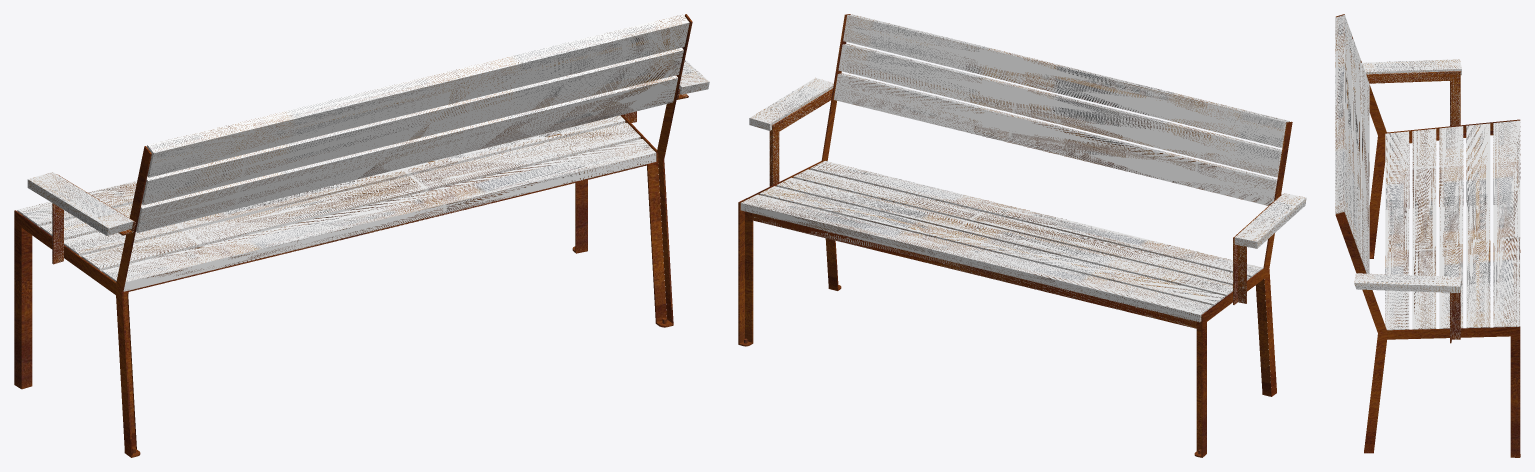
3 views of the same model, side by side, from view 1: azimuth 30°, elevation 25°; view 2: azimuth 150°, elevation 25°; view 3: azimuth 270°, elevation 25° (orthographic). The views are drawn at different scales.
Visible parts, largest first — view 1: mesh3_mesh3-geometry, mesh5_mesh5-geometry, mesh4_mesh4-geometry, mesh10_mesh10-geometry, mesh8_mesh8-geometry, mesh26_mesh26-geometry, mesh9_mesh9-geometry, mesh13_mesh13-geometry, mesh18_mesh18-geometry, mesh6_mesh6-geometry, mesh29_mesh29-geometry, mesh1_mesh1-geometry (+3 smaller); view 2: mesh3_mesh3-geometry, mesh5_mesh5-geometry, mesh4_mesh4-geometry, mesh6_mesh6-geometry, mesh7_mesh7-geometry, mesh9_mesh9-geometry, mesh8_mesh8-geometry, mesh10_mesh10-geometry, mesh26_mesh26-geometry, mesh2_mesh2-geometry, mesh13_mesh13-geometry, mesh18_mesh18-geometry (+5 smaller); view 3: mesh6_mesh6-geometry, mesh7_mesh7-geometry, mesh8_mesh8-geometry, mesh10_mesh10-geometry, mesh9_mesh9-geometry, mesh13_mesh13-geometry, mesh3_mesh3-geometry, mesh22_mesh22-geometry, mesh5_mesh5-geometry, mesh4_mesh4-geometry, mesh26_mesh26-geometry, mesh19_mesh19-geometry (+4 smaller).
Part boxes in pixels (x1,y1,x2,y2): mesh3_mesh3-geometry: (147, 14, 689, 177); mesh5_mesh5-geometry: (141, 47, 683, 205); mesh4_mesh4-geometry: (136, 75, 677, 232); mesh10_mesh10-geometry: (102, 139, 656, 291); mesh8_mesh8-geometry: (81, 123, 640, 271); mesh26_mesh26-geometry: (14, 210, 140, 457); mesh9_mesh9-geometry: (64, 115, 625, 256); mesh13_mesh13-geometry: (572, 114, 673, 327); mesh18_mesh18-geometry: (27, 172, 133, 235); mesh6_mesh6-geometry: (17, 180, 137, 227); mesh29_mesh29-geometry: (116, 146, 151, 291); mesh1_mesh1-geometry: (127, 164, 646, 291); mesh3_mesh3-geometry: (843, 14, 1289, 147); mesh5_mesh5-geometry: (838, 44, 1281, 177); mesh4_mesh4-geometry: (833, 73, 1277, 205); mesh6_mesh6-geometry: (740, 194, 1212, 322); mesh7_mesh7-geometry: (759, 186, 1224, 306); mesh9_mesh9-geometry: (776, 177, 1232, 296); mesh8_mesh8-geometry: (793, 169, 1250, 285); mesh10_mesh10-geometry: (810, 161, 1262, 277); mesh26_mesh26-geometry: (1194, 268, 1276, 457); mesh2_mesh2-geometry: (752, 213, 1196, 328); mesh13_mesh13-geometry: (738, 160, 841, 346); mesh18_mesh18-geometry: (1234, 193, 1306, 248); mesh6_mesh6-geometry: (1493, 120, 1520, 327); mesh7_mesh7-geometry: (1466, 123, 1490, 328); mesh8_mesh8-geometry: (1412, 128, 1436, 329); mesh10_mesh10-geometry: (1385, 131, 1409, 330); mesh9_mesh9-geometry: (1439, 126, 1463, 328); mesh13_mesh13-geometry: (1364, 326, 1520, 457); mesh3_mesh3-geometry: (1335, 15, 1352, 231); mesh22_mesh22-geometry: (1354, 273, 1461, 292); mesh5_mesh5-geometry: (1352, 39, 1360, 255); mesh4_mesh4-geometry: (1360, 62, 1369, 273); mesh26_mesh26-geometry: (1369, 119, 1520, 258); mesh19_mesh19-geometry: (1366, 71, 1460, 126).
Bounding box in the file's own units: 0.8554 × 0.4257 × 0.295.
